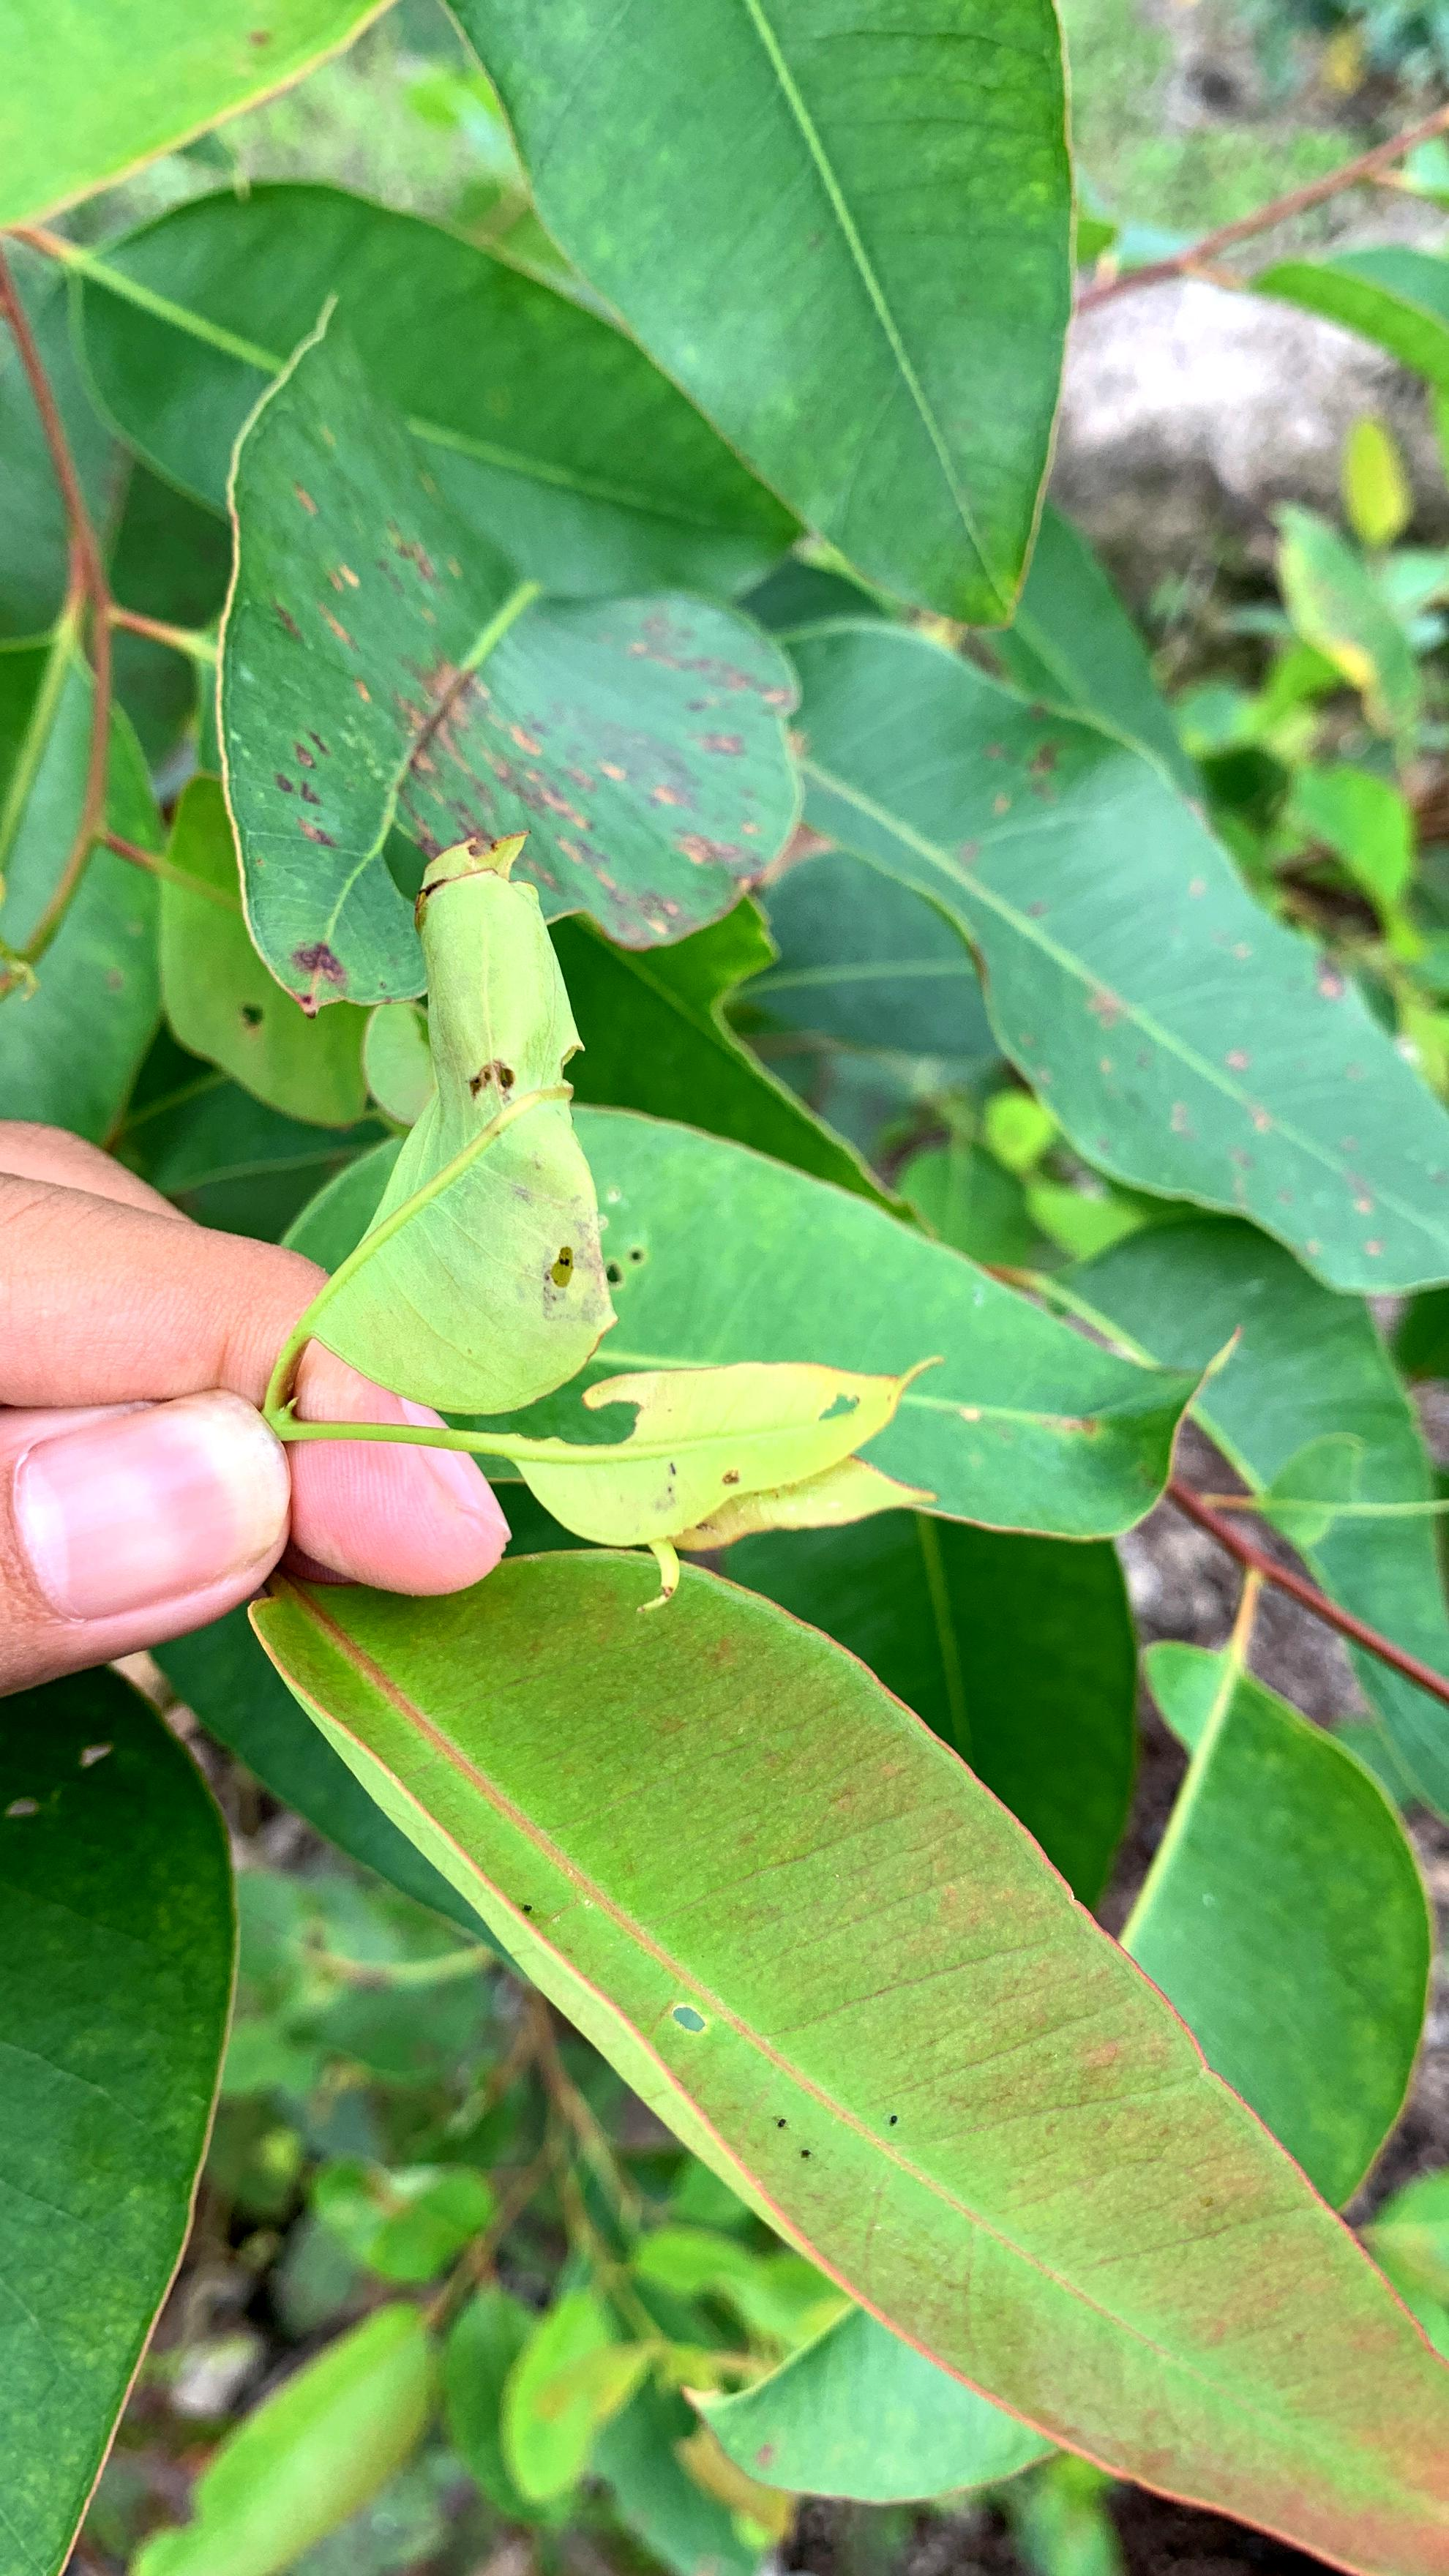Leaf Roller - Leaf: (352, 869, 609, 1451)
